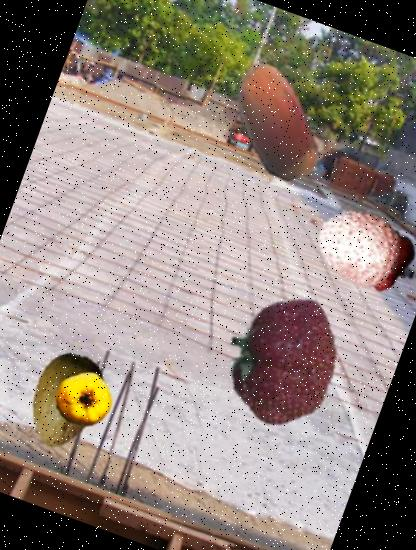Hazelnut: (193, 39, 354, 200)
Lychee: (304, 191, 414, 300)
Papaya: (1, 336, 129, 463)
Quince: (46, 363, 121, 437)
Strawberry: (196, 274, 367, 446), (350, 220, 416, 296)
